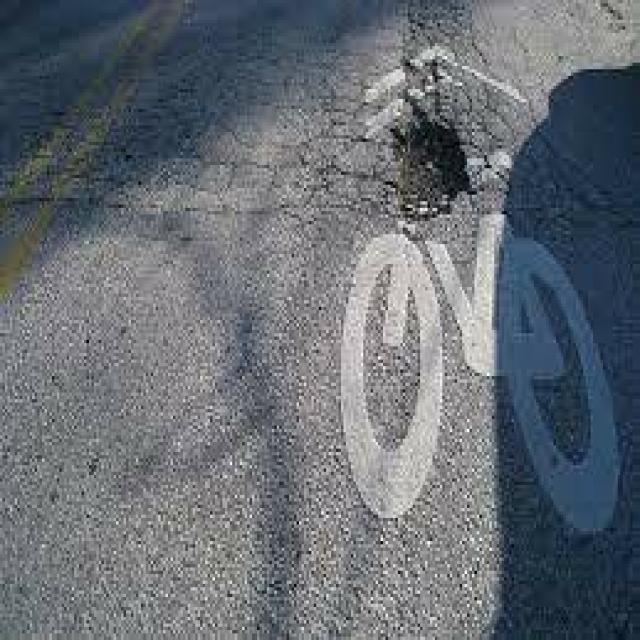Pothole: (361, 79, 514, 231)
